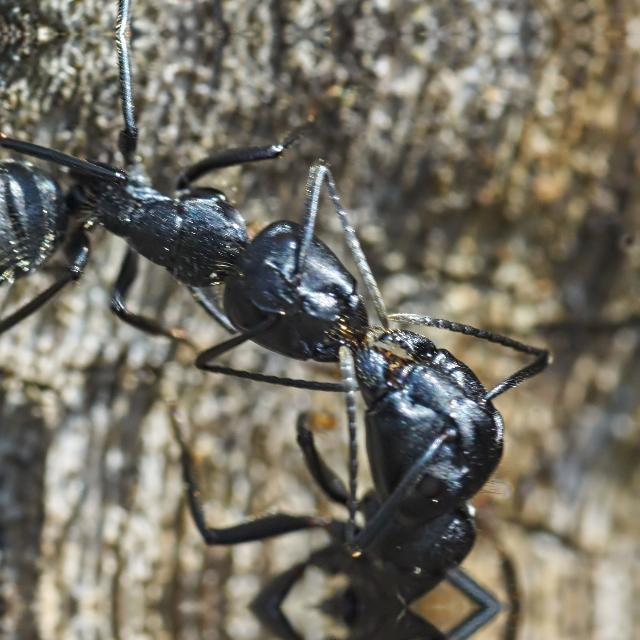Camponotus: (0, 40, 400, 384), (318, 274, 556, 606)
